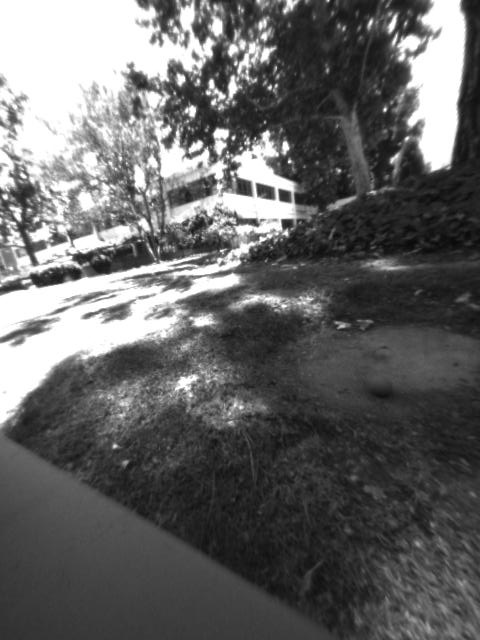dogtoy: (359, 366, 401, 404)
